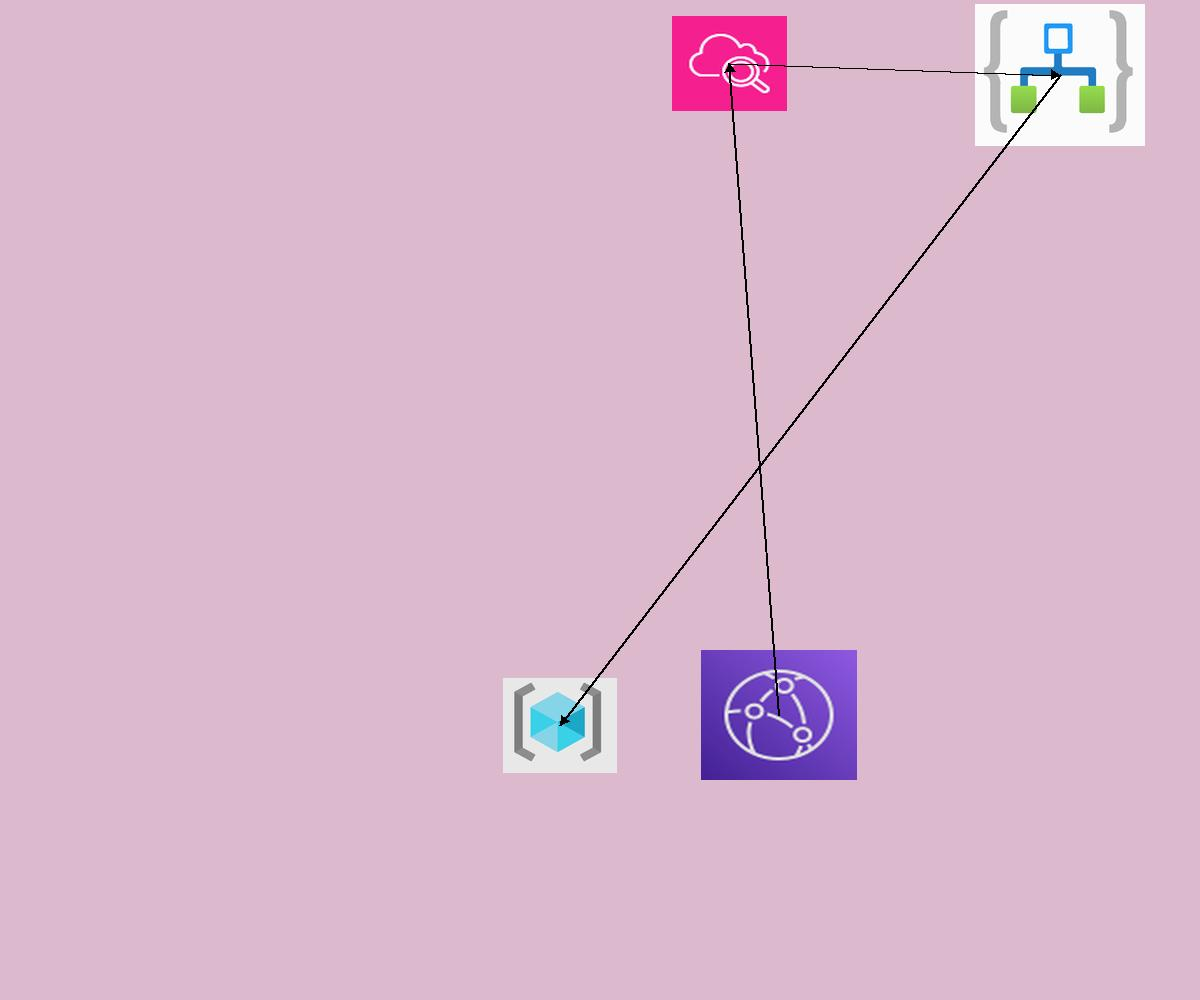AWS-CloudFront: (701, 650, 857, 780)
AWS-CloudWatch: (672, 16, 787, 111)
Azure_integration-204-Logic-Apps: (975, 4, 1145, 146)
Azure_resource_group: (503, 678, 617, 773)
